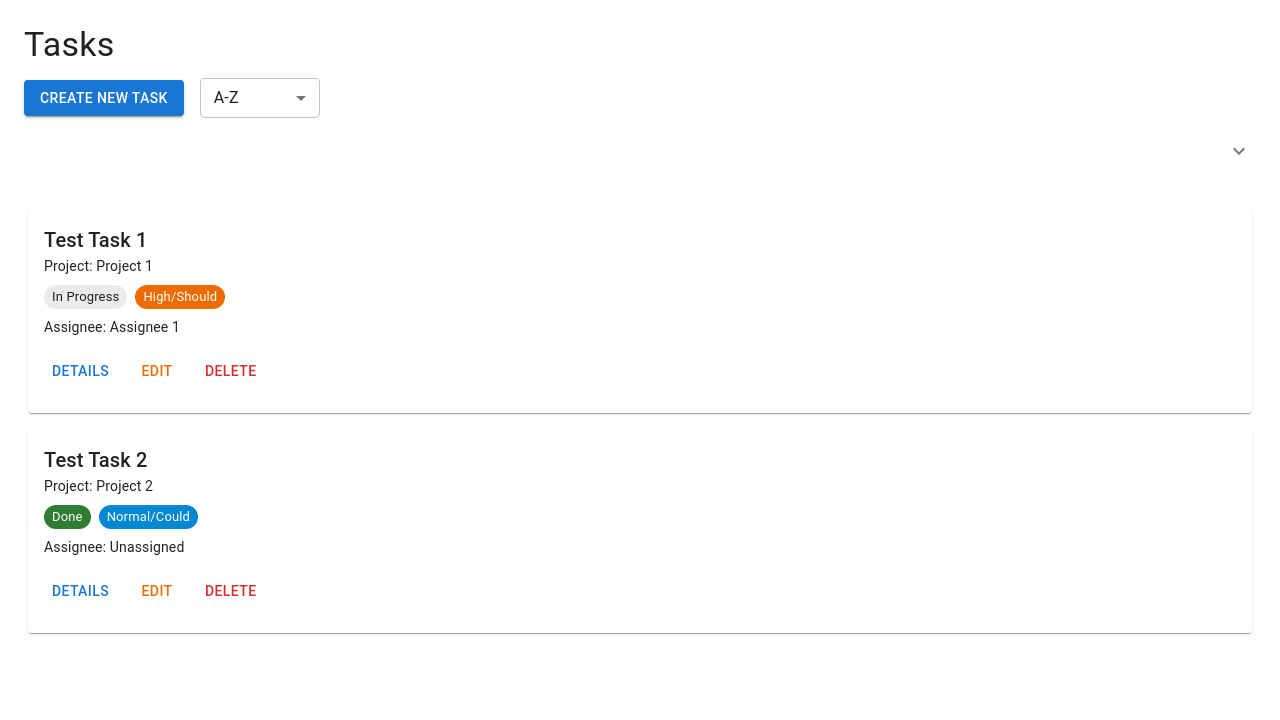
Scenario: Tasks Component › sorts tasks correctly
The width and height of the screenshot is (1280, 720).
Expected: the heading "Test Task 1" is shown, [44,228,148,252]
// Test descending sort
Click the dropdown at (226, 98), box [214,88,239,107]
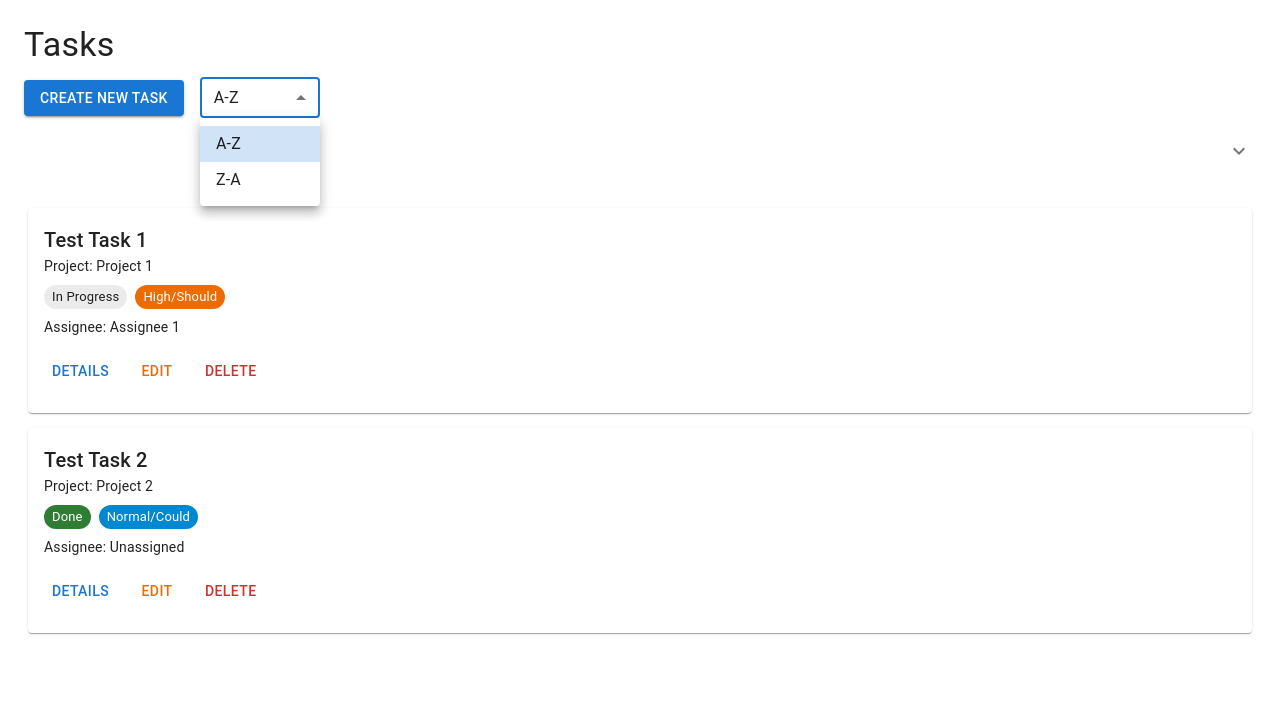
Click the option "Z-A" at (228, 180), box [216,170,241,189]
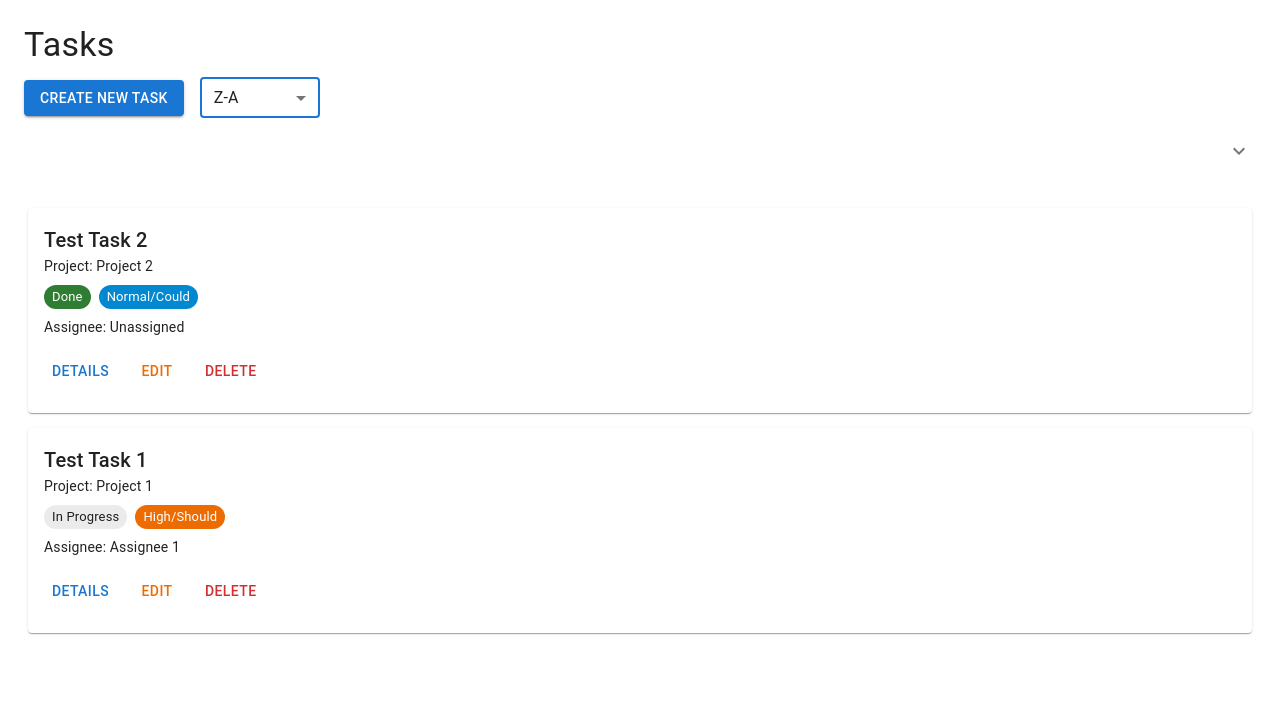
Result: the heading "Test Task 2" is shown at [44,228,148,252]
Result: the heading "Test Task 1" is shown at [44,448,148,472]
